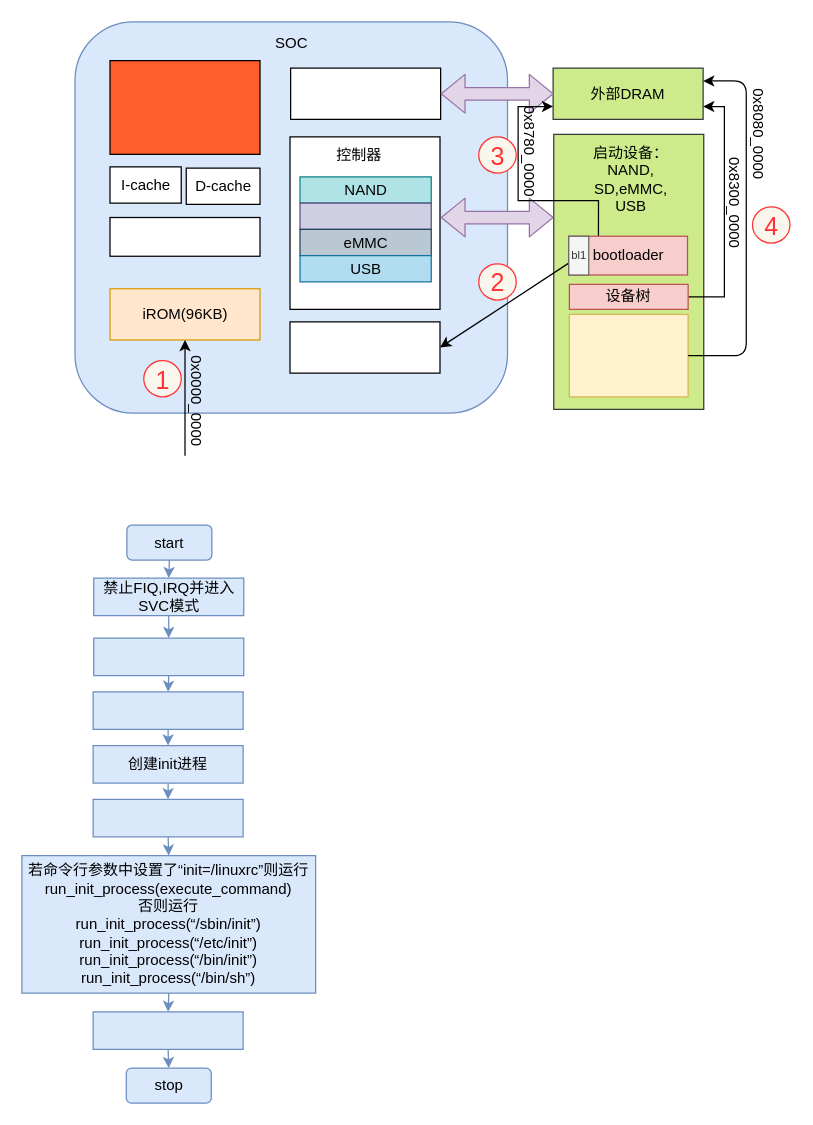
Some shapes in this 813 by 1125 pixel diagram are drawn without their labels. The box of each missing label's shape, as (x1, y1, x2, y2) in pixels:
Cortex-A7: (109, 59, 260, 154)
DRAM控制器: (289, 67, 441, 119)
iRAM(128KB): (289, 321, 440, 373)
linux OS: (568, 313, 688, 397)
SCU & Timer: (109, 216, 260, 256)
SD: (299, 202, 431, 229)
判断处理器及及其类型: (92, 637, 244, 676)
执行inittab命令: (92, 1011, 243, 1049)
挂载根文件系统: (92, 798, 243, 837)
配置各种环境: (92, 691, 243, 729)
